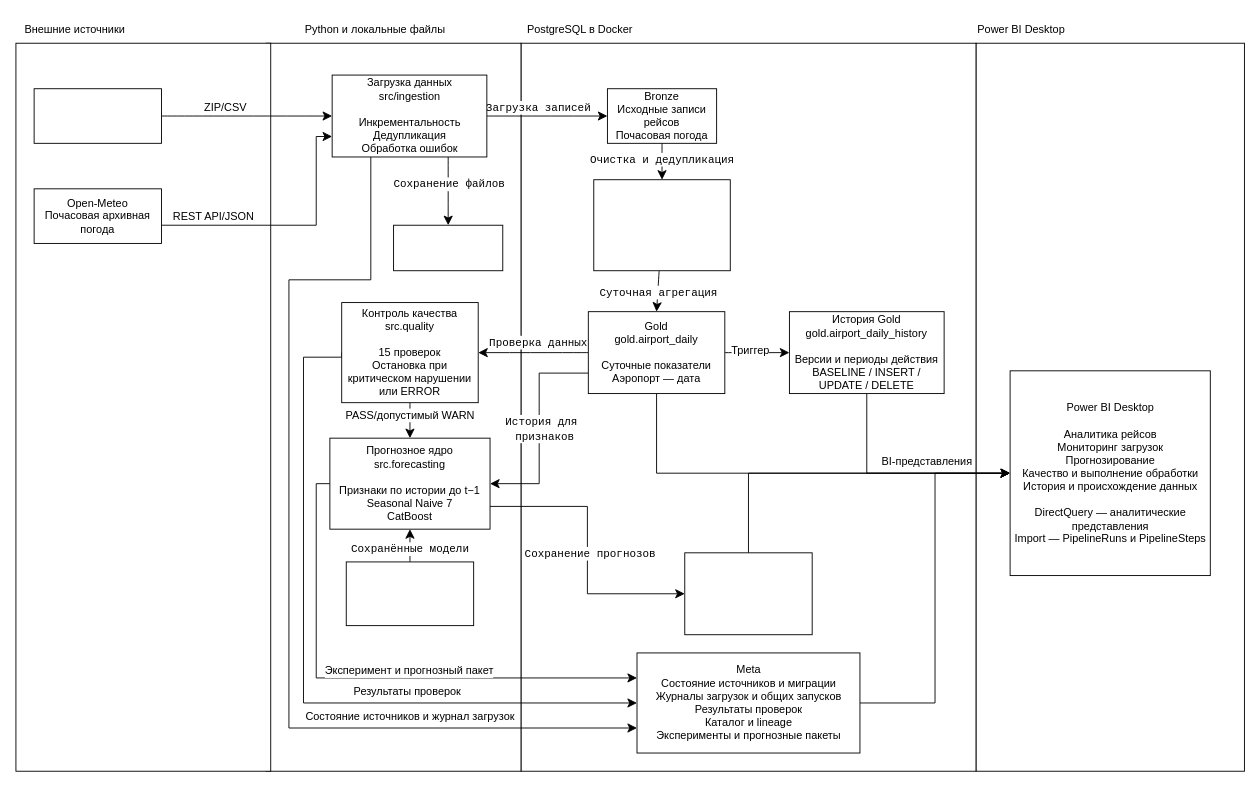
The diagram is 1260 pixels wide and 787 high, and some of its shapes have lost their labels. Each missing label, with the box of its shape:
BTS TranStats Рейсы, задержки, отмены: (33, 88, 162, 143)
Silver Очищенные данные Справочники аэропортов и авиакомпаний Признаки рейсов: (593, 179, 730, 271)
Исходные файлы data/raw: (393, 224, 503, 271)
Результаты прогнозирования Прогнозы Backtest Метрики: (684, 552, 812, 635)
Файлы моделей и эксперимента models/forecasting reports/forecasting: (345, 561, 474, 626)
